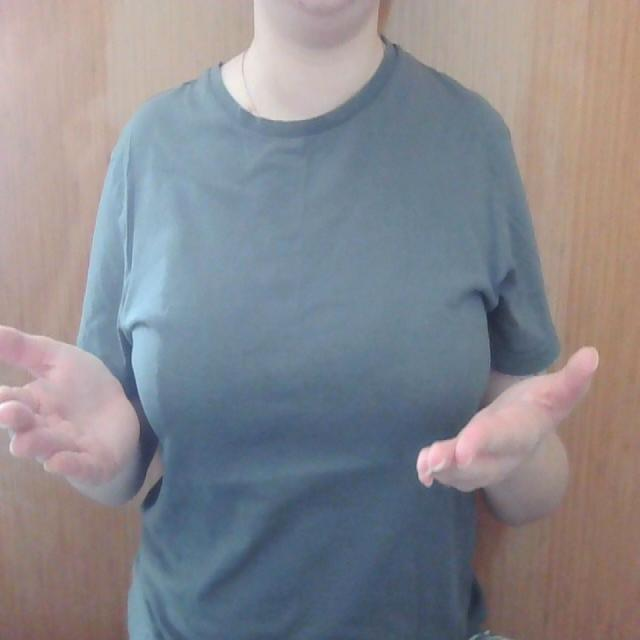Evet: (0, 320, 603, 496)
